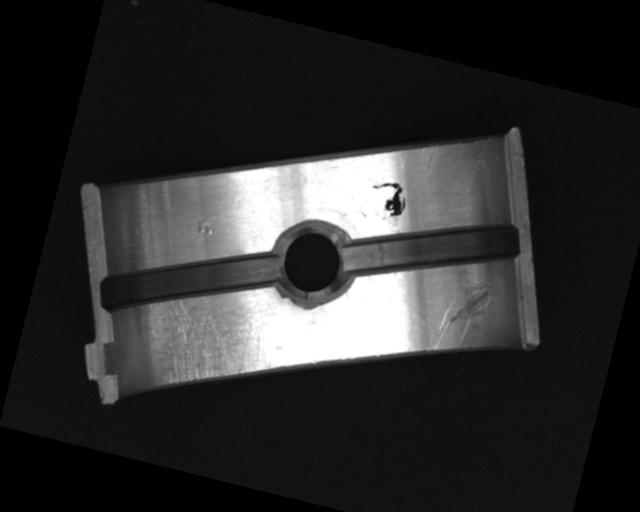blot: (364, 176, 411, 223)
bruise: (192, 214, 217, 237)
gap: (94, 214, 290, 351), (342, 185, 527, 309)
hole: (264, 216, 358, 306)
nick: (428, 270, 496, 361)
scratch: (124, 286, 282, 405)
